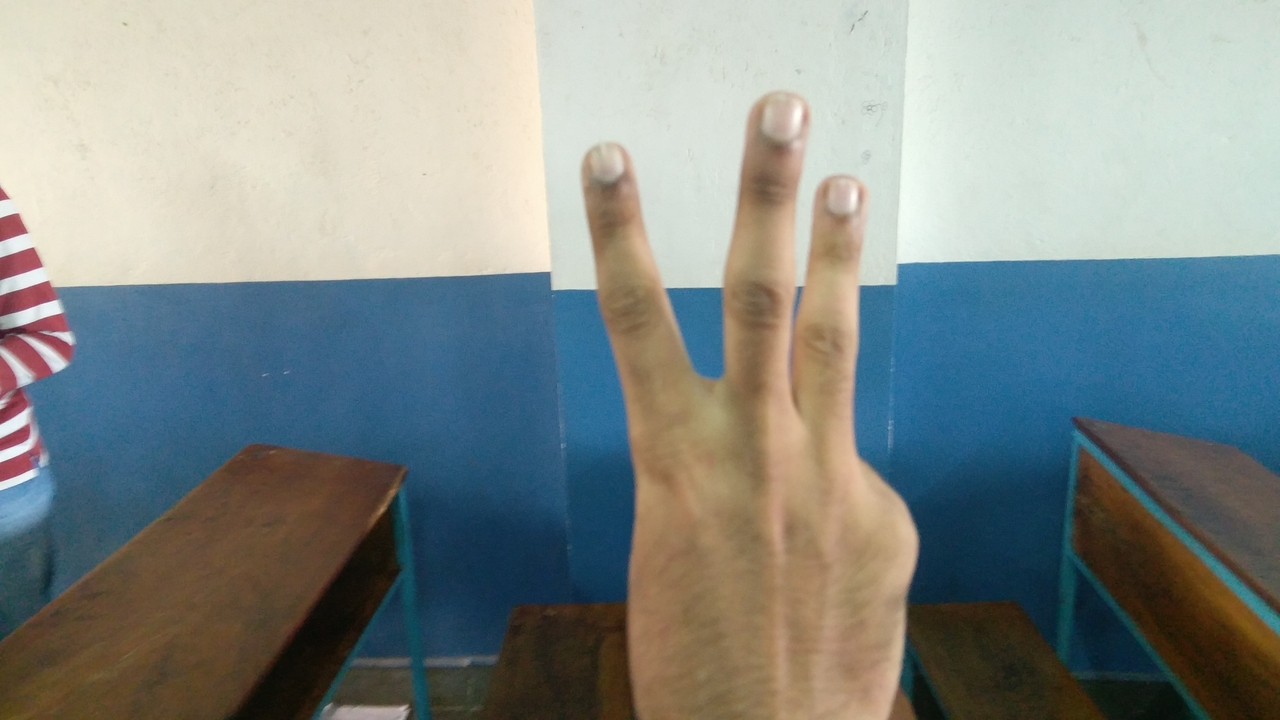fingertip: (572, 140, 646, 198), (746, 90, 816, 150), (812, 168, 872, 226)
